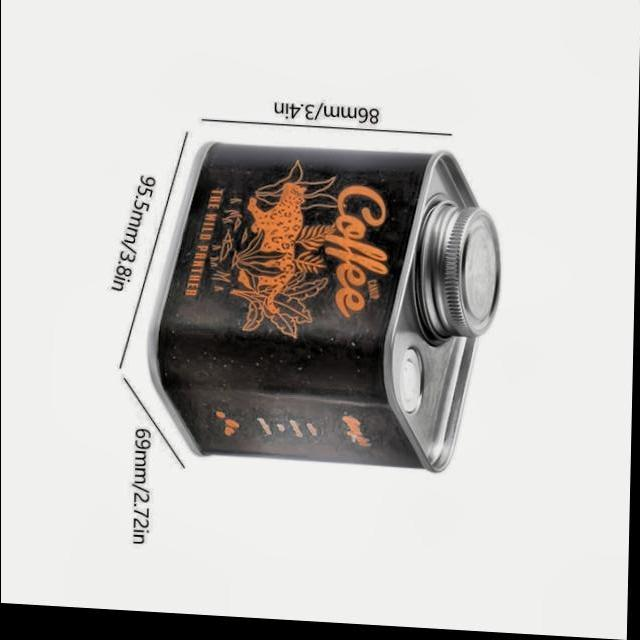litter: (142, 136, 516, 502)
